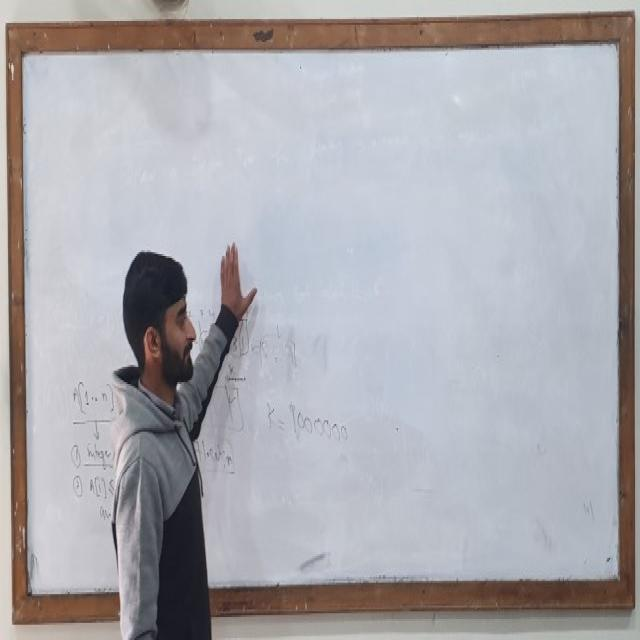Instructor: (99, 228, 224, 640)
White-board: (12, 29, 629, 611)
